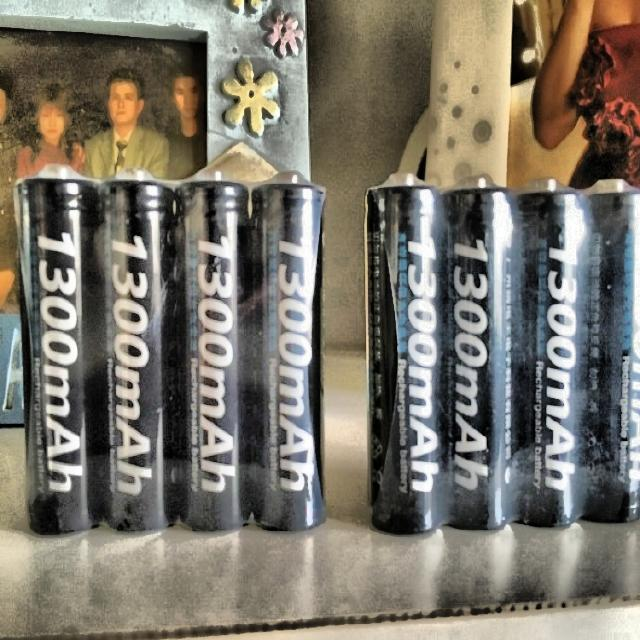Non-Valuable Waste - Batteries: (15, 165, 106, 534), (368, 175, 442, 534), (251, 173, 325, 530), (176, 180, 249, 531), (104, 173, 175, 533), (512, 181, 585, 525), (441, 176, 512, 529), (581, 180, 640, 522)
